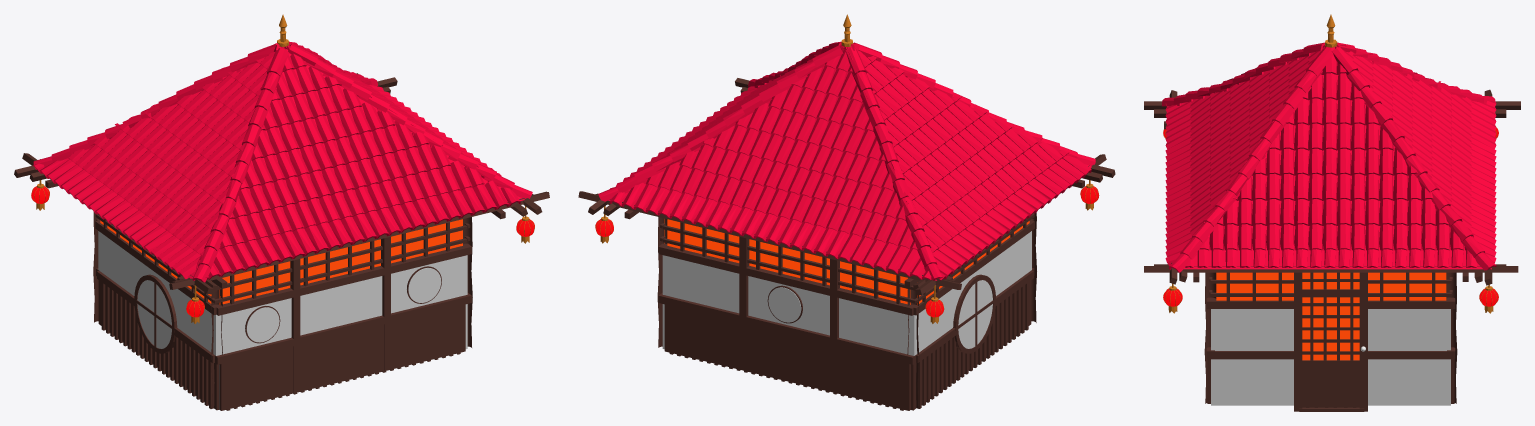
The model's file is japan_house.glb.
3 views of the same model, side by side, from view 1: azimuth 30°, elevation 25°; view 2: azimuth 150°, elevation 25°; view 3: azimuth 270°, elevation 25° (orthographic).
Parts seen in each view (by area): view 1: Circle.022, Circle.024, Japanese Haus, Cube.472, Circle.021, Circle.023, Cube.467, Plane.218, Circle.030, Circle.031, Cube.298, Cube.455 (+16 smaller); view 2: Circle.022, Circle.024, Japanese Haus, Cube.472, Circle.021, Circle.023, Cube.467, Plane.218, Circle.029, Circle.028, Cube.298, Cube.455 (+14 smaller); view 3: Circle.025, Japanese Haus, Circle.022, Circle.021, Circle.023, Circle.031, Circle.028, Plane.022, Plane.217, Cube.441, Cube.461, Cube.443 (+16 smaller).
Boxes of the visible parts, <box> form: Circle.022: <box>219,43,484,249</box>; Circle.024: <box>68,47,284,255</box>; Japanese Haus: <box>98,49,524,408</box>; Cube.472: <box>219,304,465,410</box>; Circle.021: <box>199,180,520,280</box>; Circle.023: <box>32,84,501,278</box>; Cube.467: <box>101,282,213,408</box>; Plane.218: <box>219,219,462,304</box>; Circle.030: <box>192,48,289,282</box>; Circle.031: <box>288,43,532,198</box>; Cube.298: <box>96,219,471,315</box>; Cube.455: <box>96,268,471,364</box>; Circle.022: <box>646,43,917,249</box>; Circle.024: <box>845,47,1069,252</box>; Japanese Haus: <box>608,54,1091,355</box>; Cube.472: <box>664,304,910,410</box>; Circle.021: <box>609,182,931,280</box>; Circle.023: <box>610,86,1091,280</box>; Cube.467: <box>917,282,1028,408</box>; Plane.218: <box>667,219,910,304</box>; Circle.029: <box>845,47,943,280</box>; Circle.028: <box>598,45,843,201</box>; Cube.298: <box>658,219,1033,315</box>; Cube.455: <box>658,268,1034,364</box>; Circle.025: <box>1199,47,1466,250</box>; Japanese Haus: <box>1170,61,1491,405</box>; Circle.022: <box>1190,45,1471,235</box>; Circle.021: <box>1165,100,1496,265</box>; Circle.023: <box>1185,249,1476,267</box>; Circle.031: <box>1169,48,1333,272</box>; Circle.028: <box>1332,47,1496,270</box>; Plane.022: <box>1302,272,1359,360</box>; Plane.217: <box>1216,272,1446,300</box>; Cube.441: <box>1294,272,1367,411</box>; Cube.461: <box>1144,101,1520,272</box>; Cube.443: <box>1302,364,1359,407</box>.
Size of the model in its own units: 14.75 by 12.11 by 12.43.
